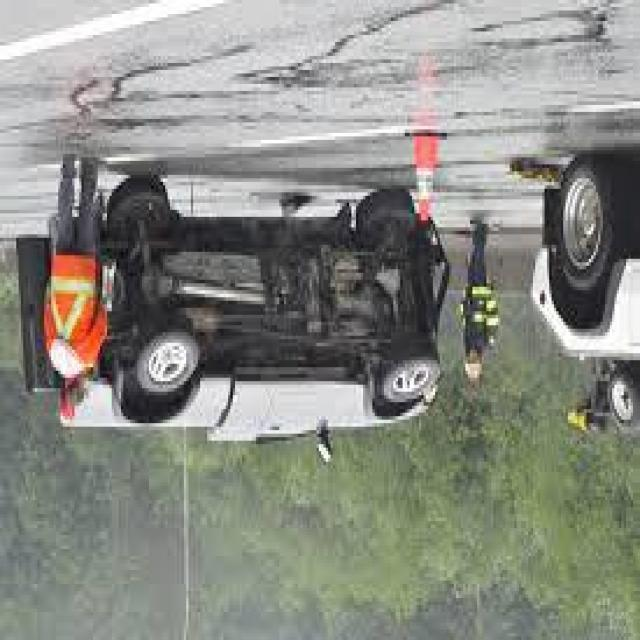severe: (16, 174, 449, 468)
